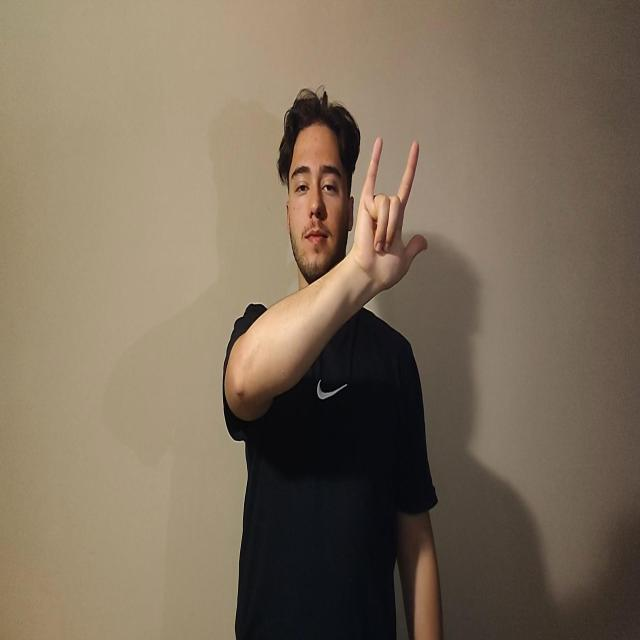iloveyou: (352, 135, 428, 298)
